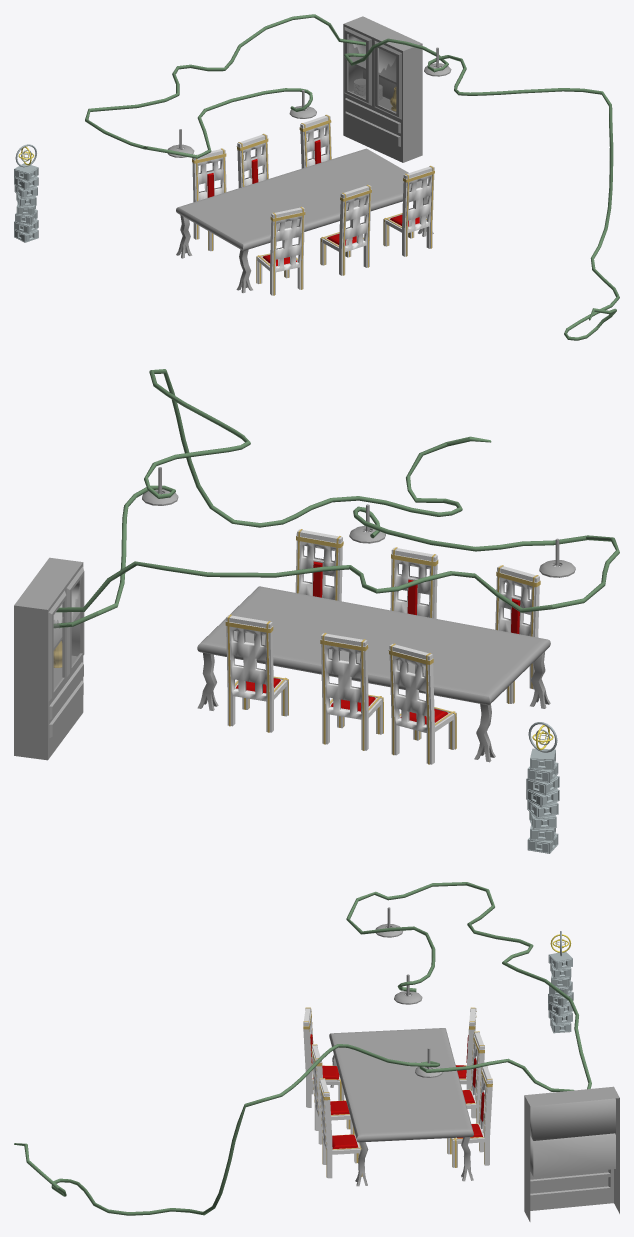
File: DiningRoom_Colored.fbx
3 renders of one model, top to bottom at view 1: azimuth 30°, elevation 25°; view 2: azimuth 150°, elevation 25°; view 3: azimuth 270°, elevation 25°, orthographic. The views are drawn at different scales.
Visible parts, largest first — view 1: Table, Cabinet, CabinetVine_1, CabinetVine_2, Chair8, Chair7, Chair6, Chair5, Chair4, Chair3, GlassPane_2, GlassPane_1; view 2: Table, Cabinet, CabinetVine_1, CabinetVine_2, Chair5, Chair3, Chair4, Chair8, Chair6, Chair7, GlassPane_1; view 3: Table, Cabinet, CabinetVine_1, CabinetVine_2, Chair6, Chair3, Chair8, Chair7, Chair4, Chair5.
Part boxes in pixels (left/top/right/bottom): Table: left=176, top=148, right=433, bottom=293; Cabinet: left=343, top=16, right=422, bottom=162; CabinetVine_1: left=344, top=38, right=619, bottom=340; CabinetVine_2: left=85, top=14, right=365, bottom=158; Chair8: left=256, top=206, right=305, bottom=295; Chair7: left=320, top=184, right=371, bottom=275; Chair6: left=383, top=165, right=434, bottom=256; Chair5: left=192, top=148, right=226, bottom=251; Chair4: left=236, top=133, right=268, bottom=187; Chair3: left=299, top=114, right=331, bottom=168; GlassPane_2: left=378, top=58, right=396, bottom=112; GlassPane_1: left=348, top=37, right=365, bottom=98; Table: left=197, top=586, right=550, bottom=762; Cabinet: left=14, top=557, right=84, bottom=760; CabinetVine_1: left=53, top=369, right=491, bottom=628; CabinetVine_2: left=56, top=506, right=619, bottom=612; Chair5: left=388, top=643, right=456, bottom=764; Chair3: left=225, top=614, right=288, bottom=732; Chair4: left=320, top=632, right=383, bottom=750; Chair8: left=495, top=565, right=540, bottom=703; Chair6: left=295, top=529, right=343, bottom=601; Chair7: left=390, top=547, right=438, bottom=618; GlassPane_1: left=53, top=617, right=63, bottom=689; Table: left=329, top=1028, right=473, bottom=1186; Cabinet: left=524, top=1086, right=619, bottom=1221; CabinetVine_1: left=14, top=1044, right=573, bottom=1215; CabinetVine_2: left=346, top=882, right=591, bottom=1089; Chair6: left=319, top=1078, right=362, bottom=1178; Chair3: left=447, top=1066, right=492, bottom=1167; Chair8: left=303, top=1007, right=344, bottom=1107; Chair7: left=311, top=1044, right=354, bottom=1144; Chair4: left=462, top=1031, right=484, bottom=1123; Chair5: left=455, top=1007, right=476, bottom=1089.
Bounding box in the file's own units: 292 × 94.71 × 330.
